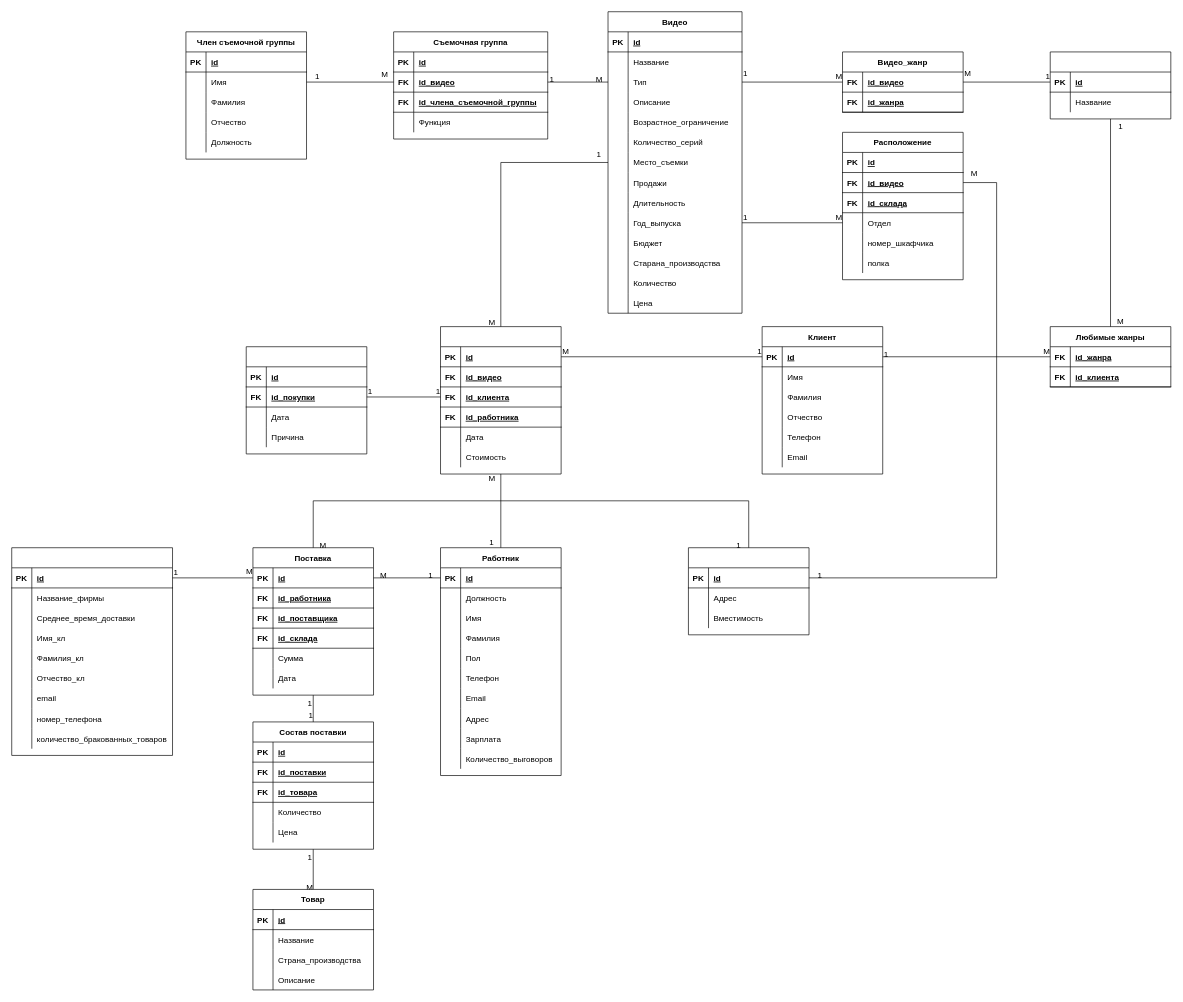
Image size: 1183x1002. Some labels were removed from this diagram. The shapes that lost their labels are listed below. From the top down, each one's box as (x1, y1, x2, y2) in pixels, then its label:
(1050, 51, 1171, 119): Жанры
(246, 346, 367, 454): Возврат
(440, 326, 561, 474): Покупка
(688, 547, 809, 635): Склад
(11, 547, 173, 755): Поставщик
